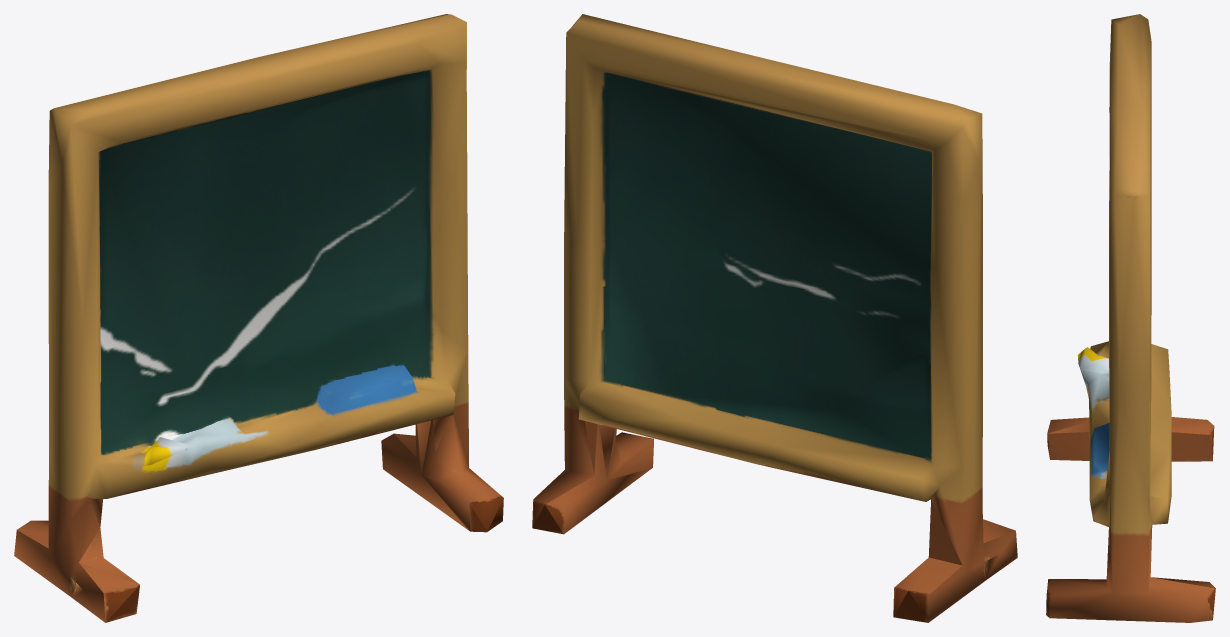
File: chalkboard-broken.glb
The picture shows the model from 3 angles, left to right: view 1: azimuth 30°, elevation 25°; view 2: azimuth 150°, elevation 25°; view 3: azimuth 270°, elevation 25°; orthographic projection. The views are drawn at different scales.
Visible parts, largest first — view 1: geometry_0.001; view 2: geometry_0.001; view 3: geometry_0.001.
Boxes of the visible parts, x1=… form: geometry_0.001: x1=14, y1=14, x2=503, y2=622; geometry_0.001: x1=532, y1=14, x2=1017, y2=622; geometry_0.001: x1=1046, y1=14, x2=1215, y2=622.
Bounding box in the file's own units: 0.8786 × 0.9996 × 0.3542.
1 material, 1 textured.
